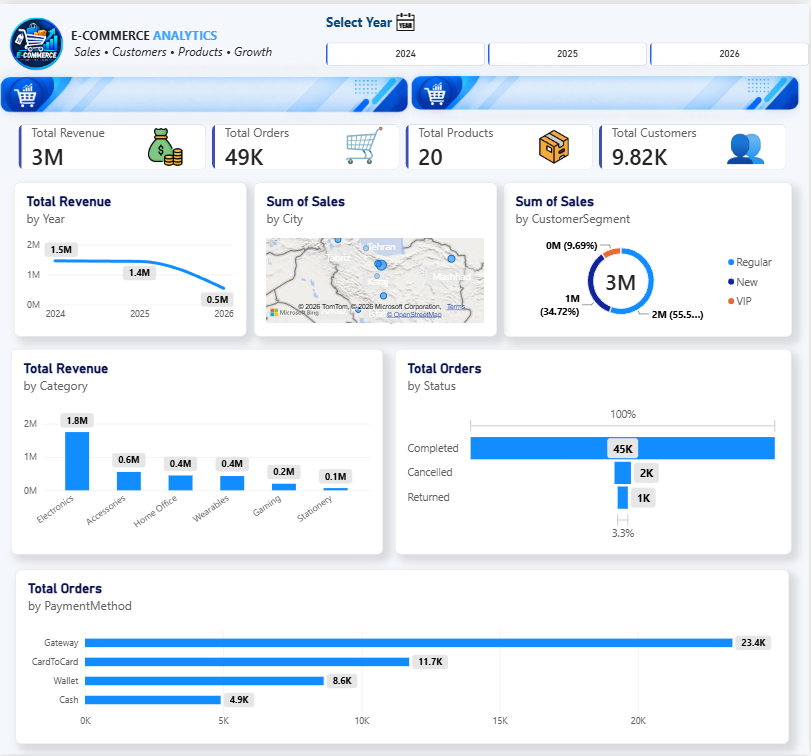

The page's visual inventory and layout, read from the dashboard file:
{"tool":"powerbi","page":{"name":"Dashbord","canvas":[1080,1000],"ordinal":0},"visuals":[{"type":"image","box":[8,18,84,71],"z":0},{"type":"textbox","box":[96,29,284,54],"z":1000},{"type":"advancedSlicerVisual","title":"Select Year","fields":{"Values":["clean_final_data.OrderDate.Variation.Date Hierarchy.Year"]},"box":[435,12,645,71],"z":2000},{"type":"cardVisual","fields":{"Data":["clean_final_data.Total Revenue","clean_final_data.Total Orders","clean_final_data.Total Products","Count(clean_final_data.CustomerID)"]},"box":[25.6,159.8,1026.2,61.2],"z":3000},{"type":"image","box":[161.8,164.8,119,53],"z":4000},{"type":"image","box":[456.8,161,62,53],"z":5000},{"type":"image","box":[688.1,164.8,105,52.5],"z":6000},{"type":"image","box":[954,161,83,53],"z":7000},{"type":"lineChart","fields":{"Category":["clean_final_data.OrderDate.Variation.Date Hierarchy.Year","clean_final_data.OrderDate.Variation.Date Hierarchy.Quarter","clean_final_data.OrderDate.Variation.Date Hierarchy.Month","clean_final_data.OrderDate.Variation.Date Hierarchy.Day"],"Y":["clean_final_data.Total Revenue"]},"box":[20.2,238.3,310,205],"z":8000},{"type":"clusteredColumnChart","fields":{"Category":["clean_final_data.Category"],"Y":["clean_final_data.Total Revenue"]},"box":[15.8,459.9,496.2,273.8],"z":9000},{"type":"donutChart","fields":{"Category":["clean_final_data.CustomerSegment"],"Y":["Sum(clean_final_data.Sales)"]},"box":[672.8,238.3,385,206.2],"z":10000},{"type":"map","fields":{"Category":["clean_final_data.City"],"Size":["Sum(clean_final_data.Sales)"]},"box":[339,238.3,323.8,205],"z":11000},{"type":"barChart","fields":{"Y":["clean_final_data.Total Orders"],"Category":["clean_final_data.PaymentMethod"]},"box":[21,753,1031.2,232.5],"z":12000},{"type":"funnel","fields":{"Y":["clean_final_data.Total Orders"],"Category":["clean_final_data.Status"]},"box":[527,459.9,528.8,273.8],"z":13000},{"type":"image","box":[519,12,44,24],"z":14000},{"type":"image","box":[0,18.6,547.1,214.3],"z":15001},{"type":"image","box":[547.1,0,532.9,250],"z":15002}]}

Visuals, with their boxes in screenshot pixels (x1, y1, x2, y2), scaled from the page's 1080x1000 canvas onto the 811x756 screenshot:
image: (x1=6, y1=14, x2=69, y2=67)
textbox: (x1=72, y1=22, x2=285, y2=63)
"Select Year" advancedSlicerVisual: (x1=327, y1=9, x2=810, y2=63)
cardVisual - clean_final_data.Total Revenue x clean_final_data.Total Orders: (x1=19, y1=121, x2=790, y2=167)
image: (x1=121, y1=125, x2=211, y2=165)
image: (x1=343, y1=122, x2=390, y2=162)
image: (x1=517, y1=125, x2=596, y2=164)
image: (x1=716, y1=122, x2=779, y2=162)
lineChart - clean_final_data.OrderDate.Variation.Date Hierarchy.Year x clean_final_data.OrderDate.Variation.Date Hierarchy.Quarter: (x1=15, y1=180, x2=248, y2=335)
clusteredColumnChart - clean_final_data.Category x clean_final_data.Total Revenue: (x1=12, y1=348, x2=384, y2=555)
donutChart - clean_final_data.CustomerSegment x Sum(clean_final_data.Sales): (x1=505, y1=180, x2=794, y2=336)
map - clean_final_data.City x Sum(clean_final_data.Sales): (x1=255, y1=180, x2=498, y2=335)
barChart - clean_final_data.Total Orders x clean_final_data.PaymentMethod: (x1=16, y1=569, x2=790, y2=745)
funnel - clean_final_data.Total Orders x clean_final_data.Status: (x1=396, y1=348, x2=793, y2=555)
image: (x1=390, y1=9, x2=423, y2=27)
image: (x1=0, y1=14, x2=411, y2=176)
image: (x1=411, y1=0, x2=810, y2=189)
